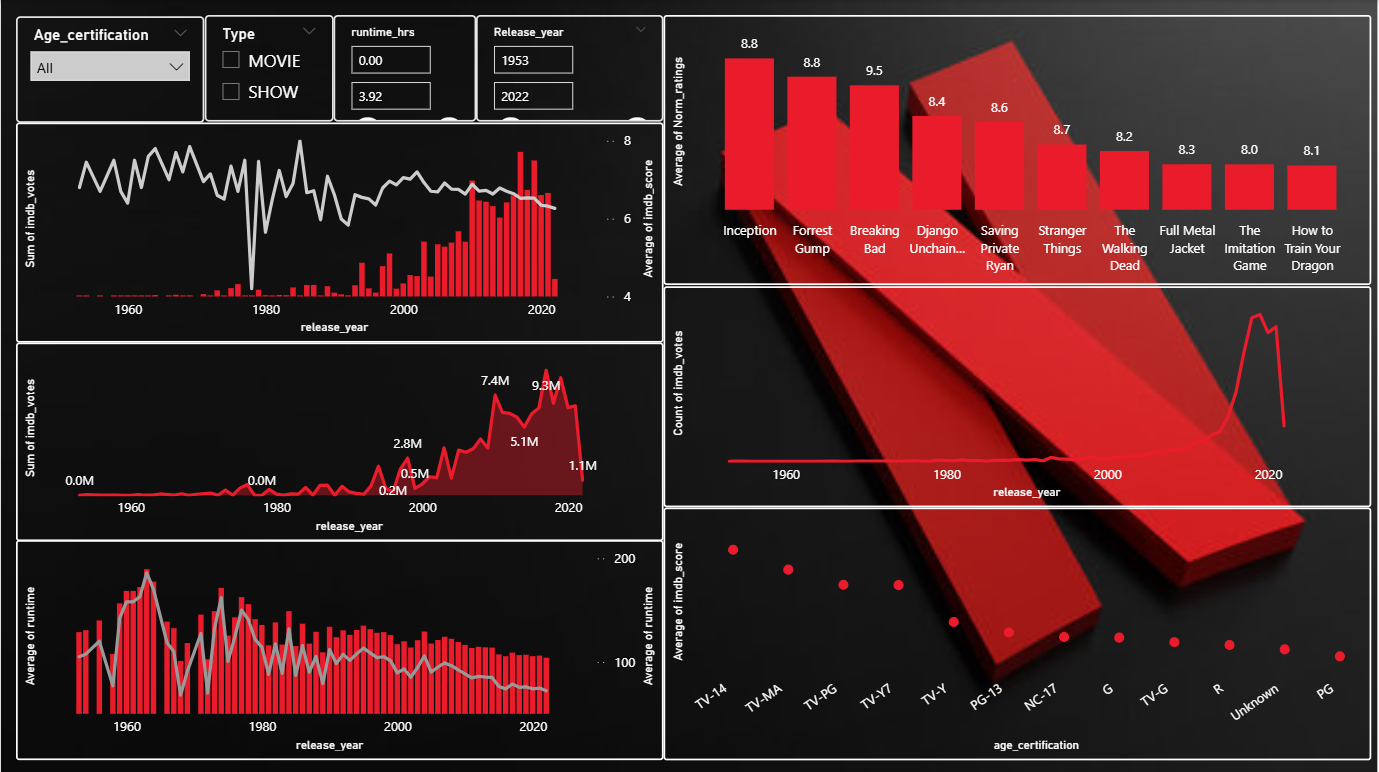

Layout of this report page (visuals, bound fields, positions):
{"tool":"powerbi","page":{"name":"Dashboard","canvas":[1280,720],"ordinal":0},"visuals":[{"type":"slicer","fields":{"Values":["Netflix TV Shows and Movies.release_year"]},"box":[441.9,14,174.4,98.8],"z":0},{"type":"slicer","fields":{"Values":["Netflix TV Shows and Movies.type"]},"box":[189.5,14,119.8,98.8],"z":1000},{"type":"clusteredColumnChart","fields":{"Category":["Netflix TV Shows and Movies.title"],"Y":["Avg(Netflix TV Shows and Movies.Norm_ratings)"]},"box":[616.3,14,658.1,251.2],"z":2000},{"type":"lineChart","fields":{"Category":["Netflix TV Shows and Movies.release_year"],"Y":["CountNonNull(Netflix TV Shows and Movies.imdb_votes)"]},"box":[616.3,266.3,658.1,205.8],"z":3000},{"type":"lineClusteredColumnComboChart","fields":{"Category":["Netflix TV Shows and Movies.release_year"],"Y":["Sum(Netflix TV Shows and Movies.imdb_votes)"],"Y2":["Avg(Netflix TV Shows and Movies.imdb_score)"]},"box":[14,114,602.3,204.7],"z":4000},{"type":"lineChart","fields":{"Category":["Netflix TV Shows and Movies.release_year"],"Y":["Sum(Netflix TV Shows and Movies.imdb_votes)"]},"box":[14,318.6,602.3,184.9],"z":5000},{"type":"lineStackedColumnComboChart","fields":{"Category":["Netflix TV Shows and Movies.release_year"],"Y":["Avg(Netflix TV Shows and Movies.runtime)"],"Y2":["Avg(Netflix TV Shows and Movies.runtime)"]},"box":[13.7,502.2,602.4,204.5],"z":6000},{"type":"scatterChart","fields":{"Y":["Avg(Netflix TV Shows and Movies.imdb_score)"],"X":["Netflix TV Shows and Movies.age_certification"]},"box":[616.3,472.1,658.1,234.9],"z":7000},{"type":"slicer","fields":{"Values":["Netflix TV Shows and Movies.age_certification"]},"box":[14,15.1,175.6,98.8],"z":8000},{"type":"slicer","fields":{"Values":["Netflix TV Shows and Movies.runtime_hrs"]},"box":[309.3,14,132.6,98.8],"z":8001}]}

Visuals, with their boxes in screenshot pixels (x1, y1, x2, y2), scaled from the page's 1280x720 canvas onto the 1379x772 screenshot:
slicer - Netflix TV Shows and Movies.release_year: 476:15:664:121
slicer - Netflix TV Shows and Movies.type: 204:15:333:121
clusteredColumnChart - Netflix TV Shows and Movies.title x Avg(Netflix TV Shows and Movies.Norm_ratings): 664:15:1373:284
lineChart - Netflix TV Shows and Movies.release_year x CountNonNull(Netflix TV Shows and Movies.imdb_votes): 664:286:1373:506
lineClusteredColumnComboChart - Netflix TV Shows and Movies.release_year x Sum(Netflix TV Shows and Movies.imdb_votes): 15:122:664:342
lineChart - Netflix TV Shows and Movies.release_year x Sum(Netflix TV Shows and Movies.imdb_votes): 15:342:664:540
lineStackedColumnComboChart - Netflix TV Shows and Movies.release_year x Avg(Netflix TV Shows and Movies.runtime): 15:538:664:758
scatterChart - Avg(Netflix TV Shows and Movies.imdb_score) x Netflix TV Shows and Movies.age_certification: 664:506:1373:758
slicer - Netflix TV Shows and Movies.age_certification: 15:16:204:122
slicer - Netflix TV Shows and Movies.runtime_hrs: 333:15:476:121
